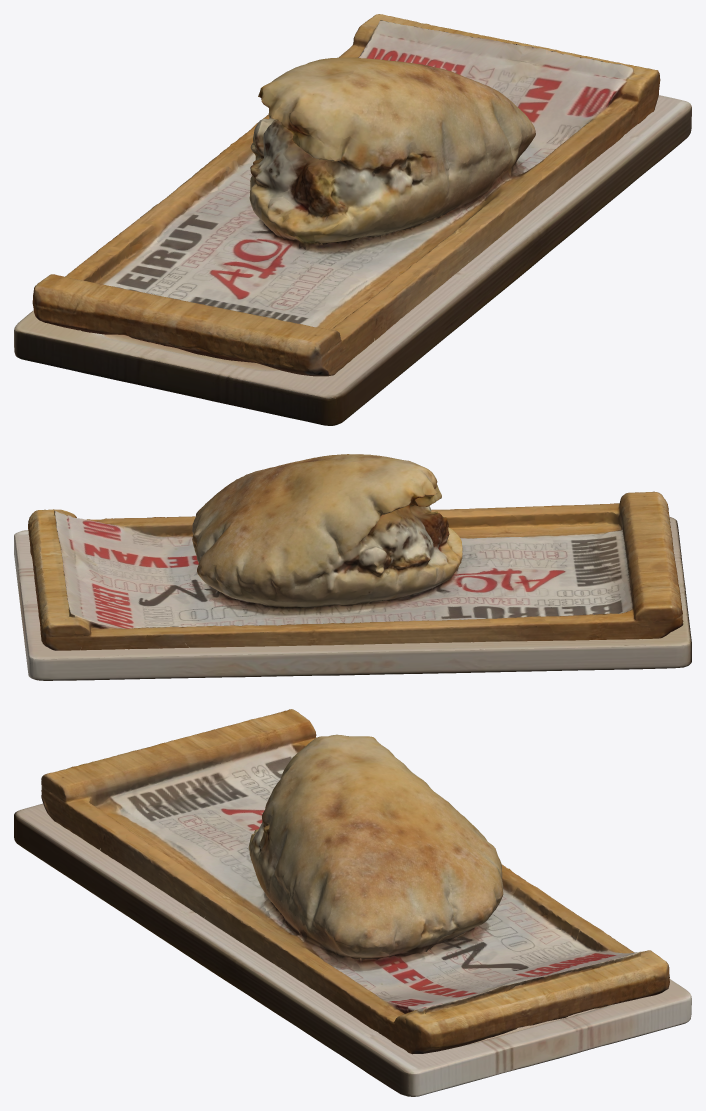
File: sandvich.falafel.glb
3 renders of one model, top to bottom at view 1: azimuth 30°, elevation 25°; view 2: azimuth 150°, elevation 25°; view 3: azimuth 270°, elevation 25°, orthographic. The views are drawn at different scales.
Parts seen in each view (by area): view 1: /Root/Scenes/Scene/Object_145/Object_146/Submesh_0, /Root/Scenes/Scene/Object_145/Object_149/Object_150/Submesh_; view 2: /Root/Scenes/Scene/Object_145/Object_146/Submesh_0, /Root/Scenes/Scene/Object_145/Object_149/Object_150/Submesh_; view 3: /Root/Scenes/Scene/Object_145/Object_146/Submesh_0, /Root/Scenes/Scene/Object_145/Object_149/Object_150/Submesh_.
Part boxes in pixels (x1,y1,x2,y2): /Root/Scenes/Scene/Object_145/Object_146/Submesh_0: [32, 14, 660, 376]; /Root/Scenes/Scene/Object_145/Object_149/Object_150/Submesh_: [14, 95, 691, 425]; /Root/Scenes/Scene/Object_145/Object_146/Submesh_0: [28, 454, 683, 650]; /Root/Scenes/Scene/Object_145/Object_149/Object_150/Submesh_: [14, 517, 691, 680]; /Root/Scenes/Scene/Object_145/Object_146/Submesh_0: [41, 709, 669, 1054]; /Root/Scenes/Scene/Object_145/Object_149/Object_150/Submesh_: [14, 803, 691, 1096].
Bounding box in the file's own units: 0.454 × 0.1054 × 0.3861.
Materials: 2 (2 with a texture image).
